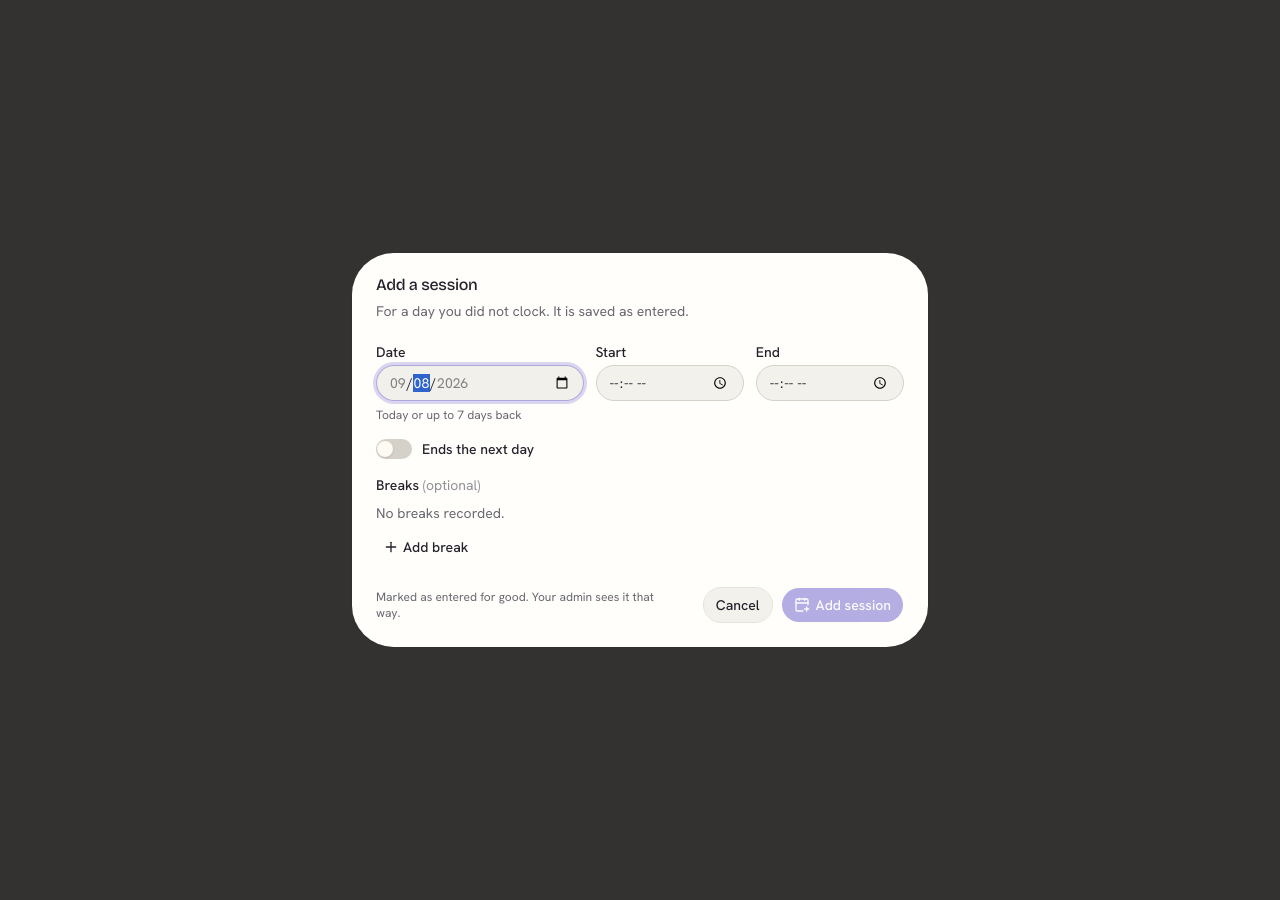
Test: EntryDialog › breaks › takes a break row back off the form
Type "08:10" into the time field labelled "Start" at coordinates (670, 383), box [596,365,744,401]
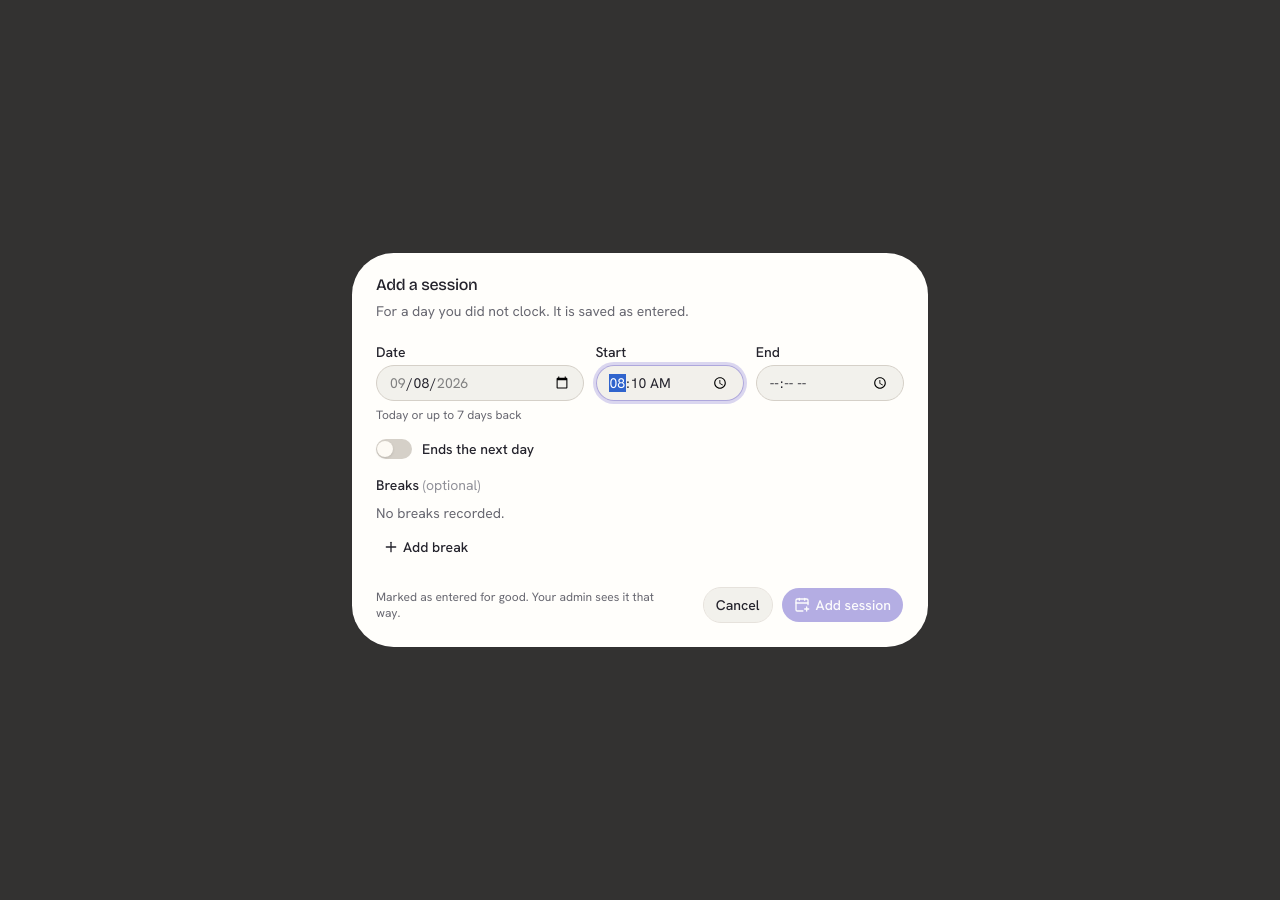
Type "16:55" into the time field labelled "End" at coordinates (830, 383), box [756,365,904,401]
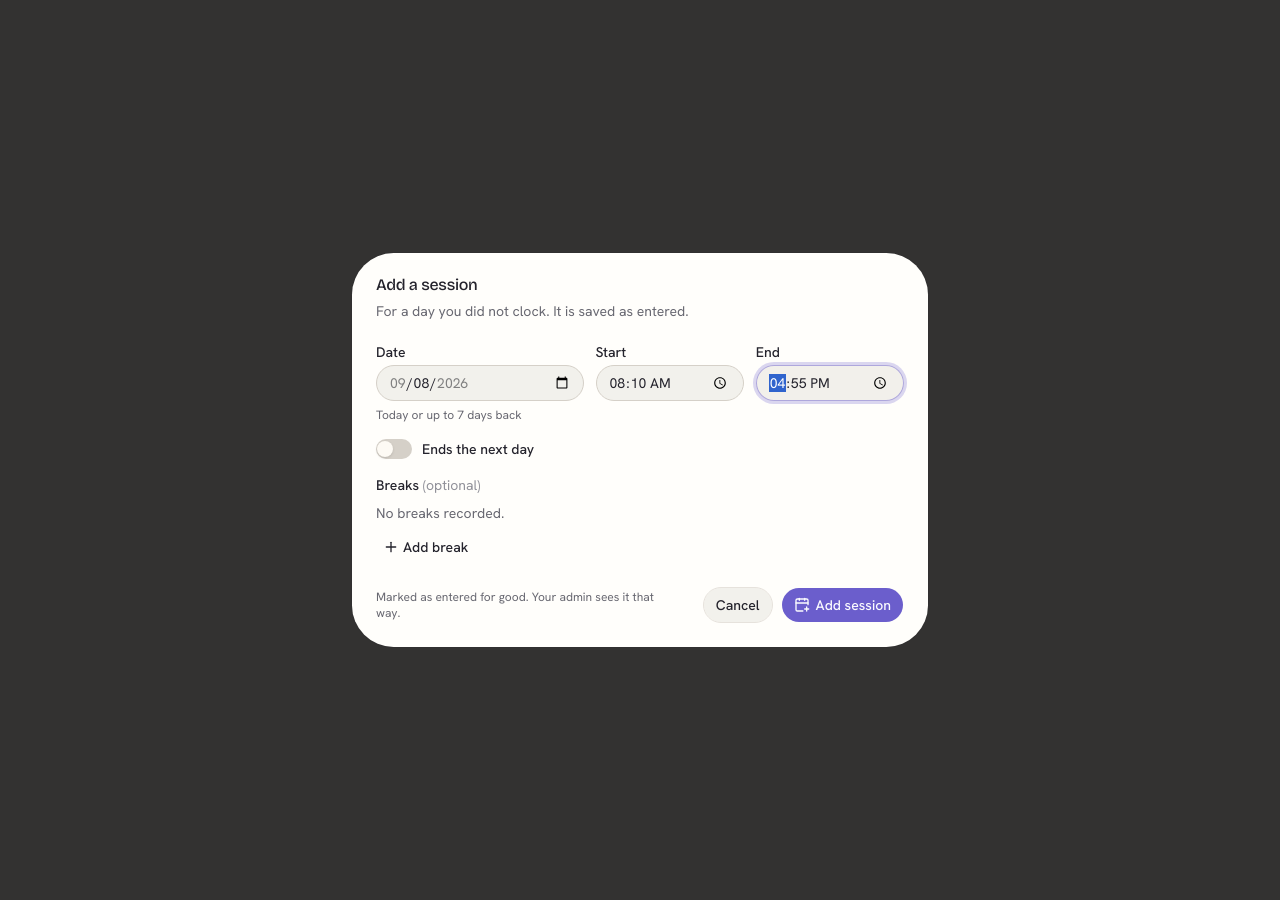
Click the button "Add break" at coordinates (429, 547), box [376,531,481,563]
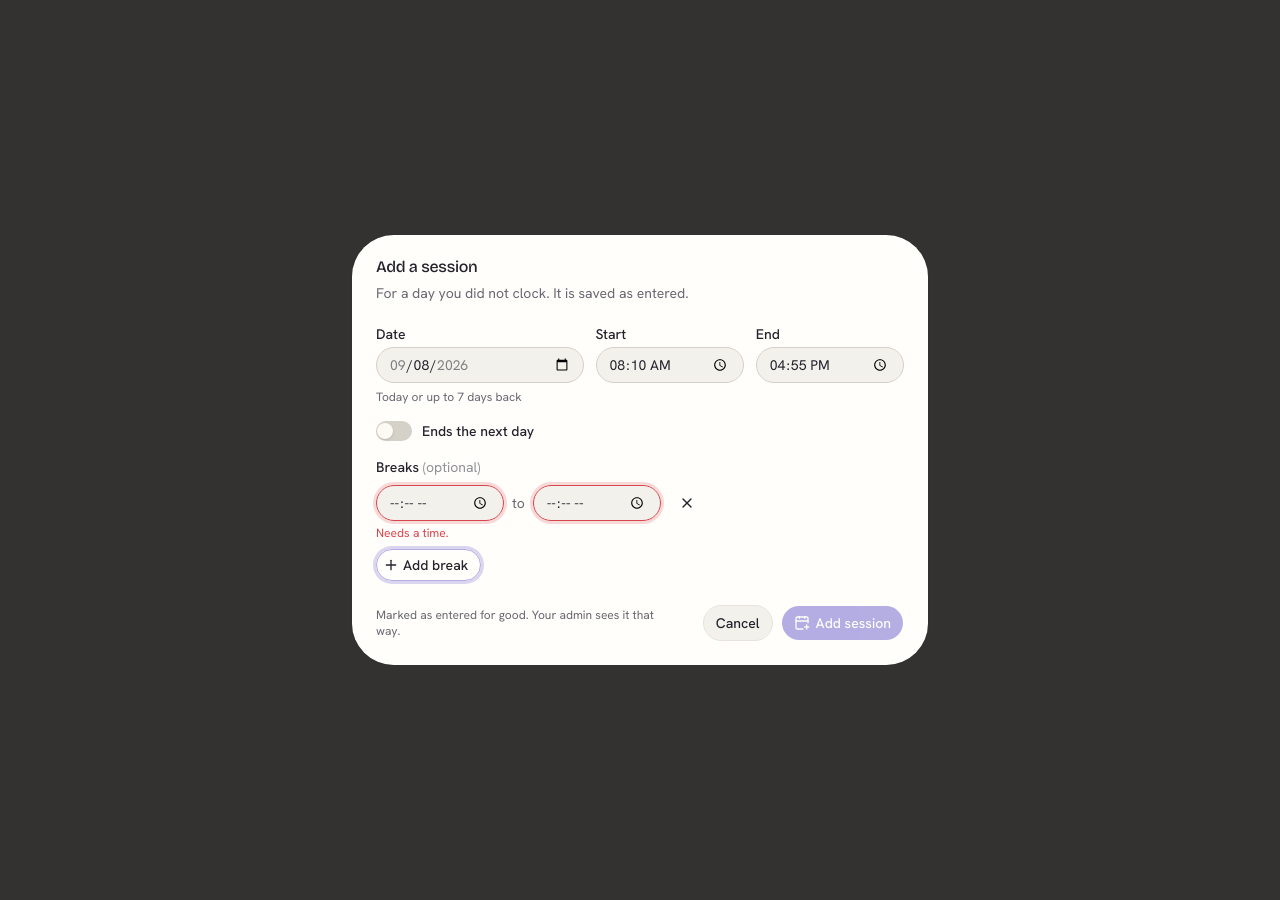
Expected: the text "Needs a time." is shown, [376,525,449,541]
Expected: the button "Add session" is disabled, [781,605,904,641]
Click the button named "Remove break" at coordinates (687, 503), box [669,485,705,521]
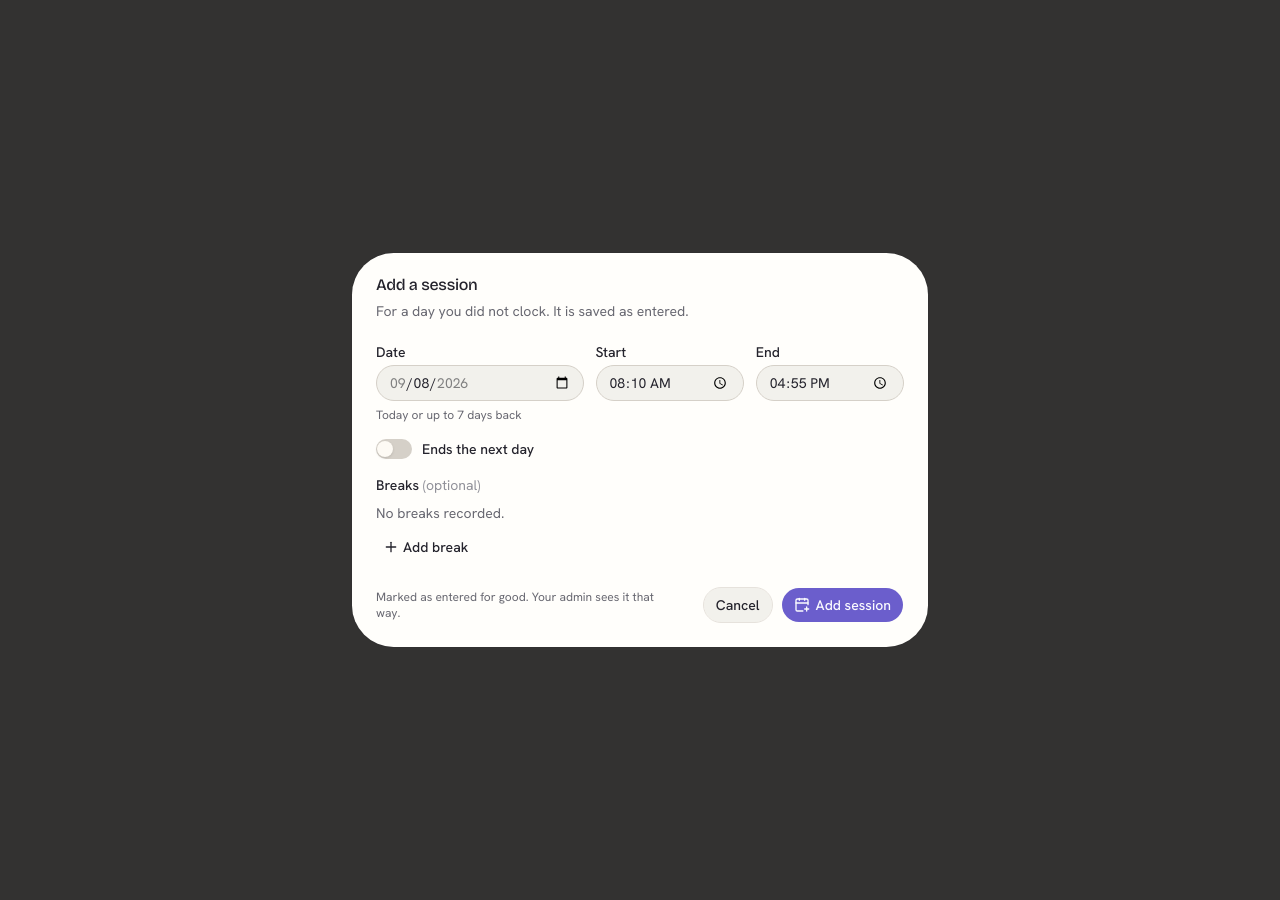
Expected: the button "Add session" is enabled, [781,587,904,623]
